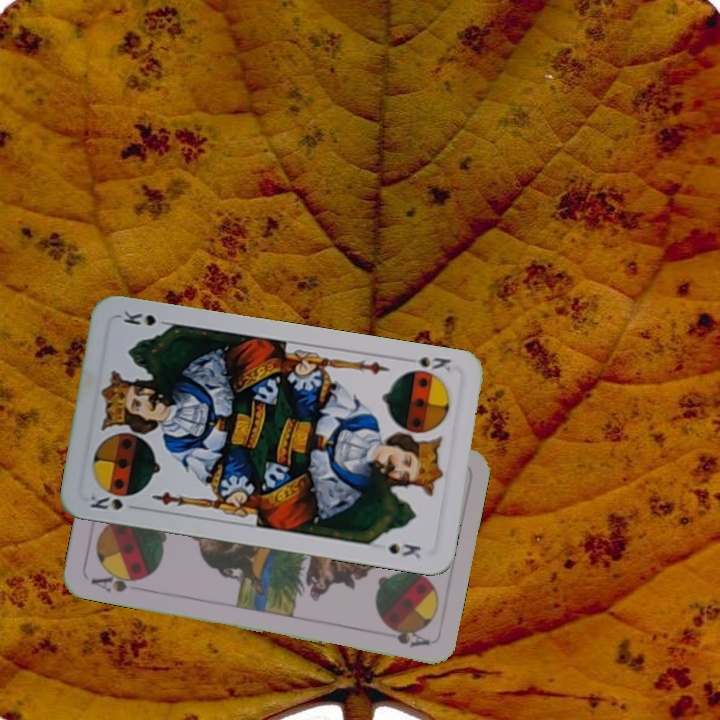SA: (87, 567, 147, 595)
SK: (400, 352, 454, 375), (86, 491, 126, 513)
